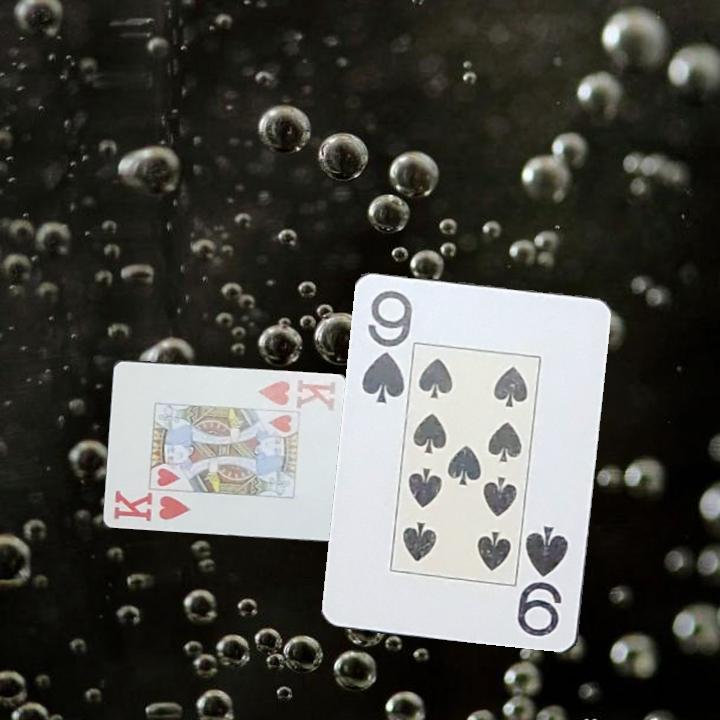9s: (358, 287, 416, 407), (516, 523, 572, 640)
Kh: (110, 487, 194, 525), (254, 376, 338, 414)
